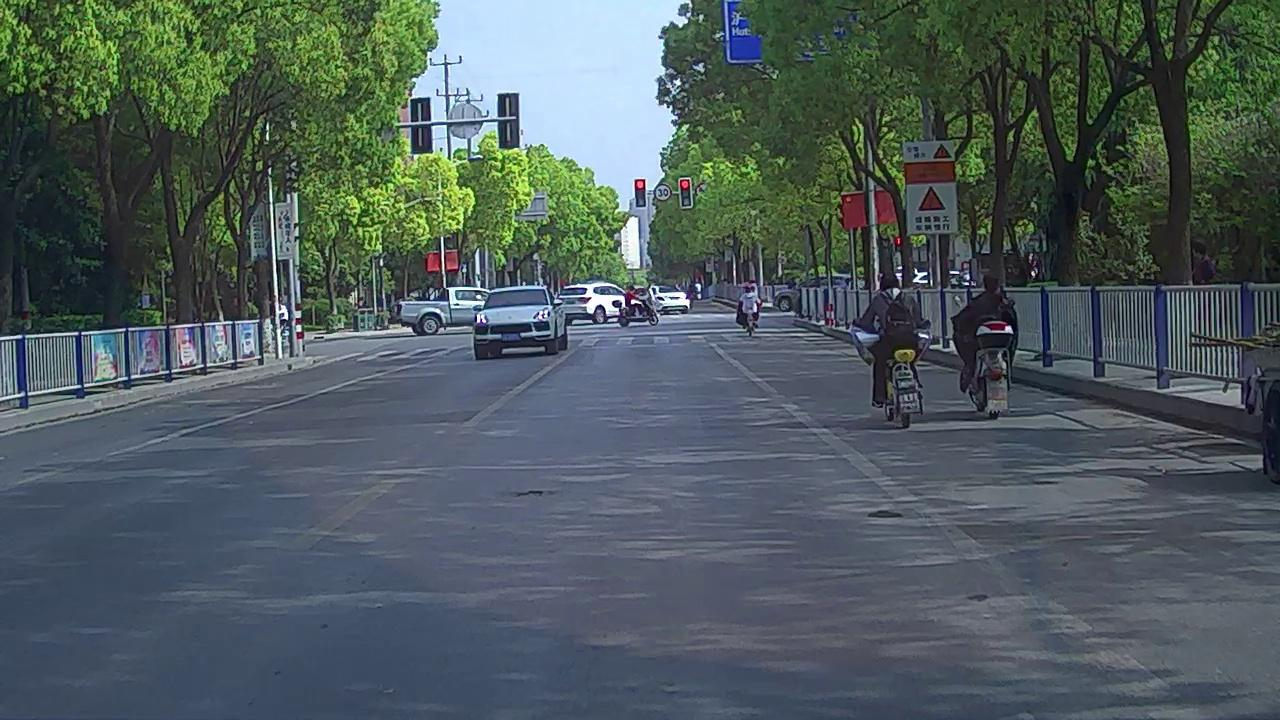traffic_light: (634, 180, 646, 207), (680, 179, 691, 207)
